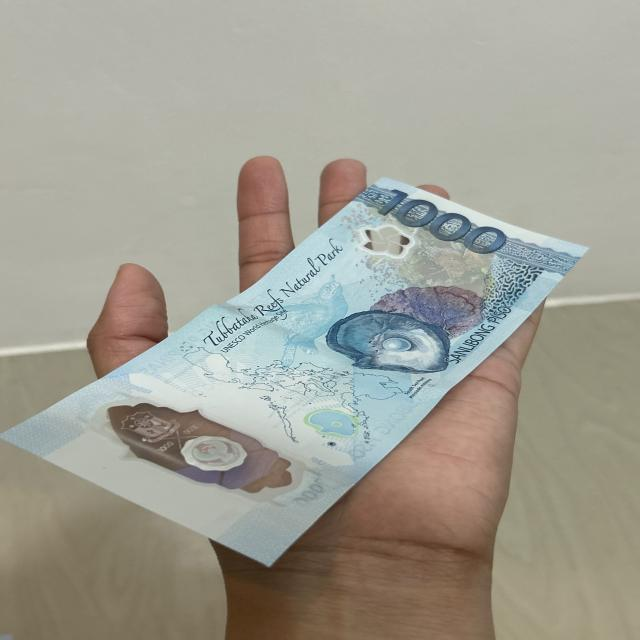clear_window: (94, 392, 304, 505)
sampaguita: (352, 221, 414, 255)
value: (377, 189, 513, 253)
